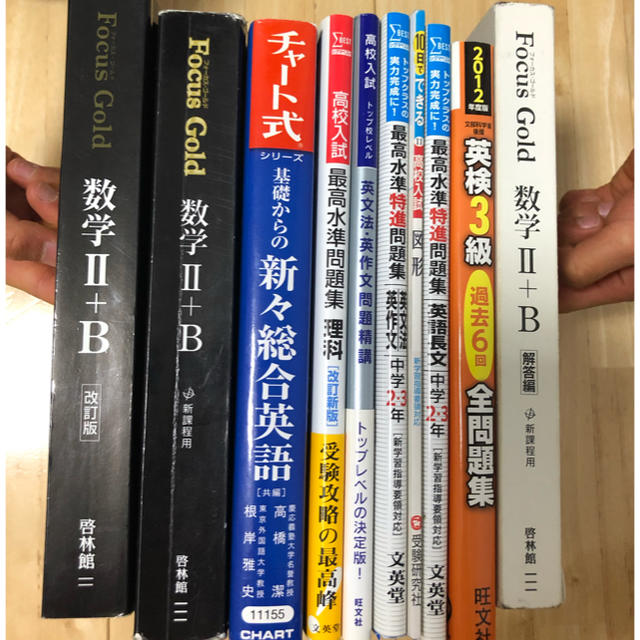book: (38, 1, 152, 622), (138, 7, 233, 640), (238, 14, 309, 638), (495, 5, 557, 605), (446, 40, 497, 636), (310, 10, 352, 640), (342, 3, 379, 640), (378, 10, 409, 640), (422, 22, 448, 638), (406, 5, 426, 638)
